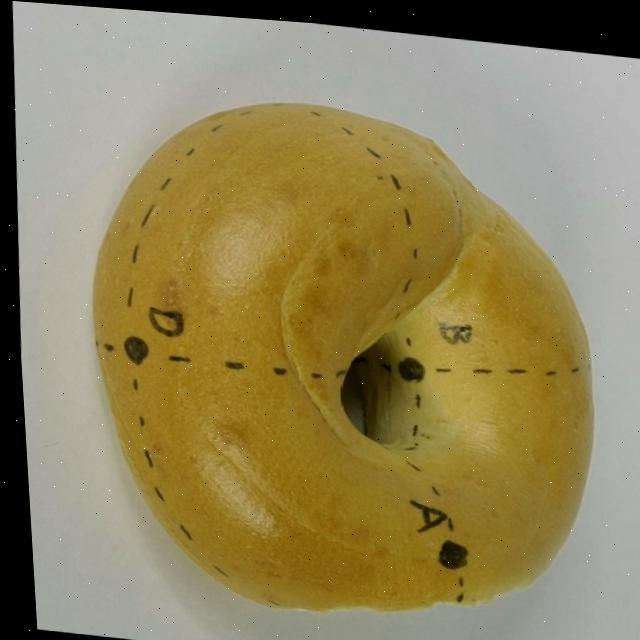面包点心: (36, 31, 640, 640)
